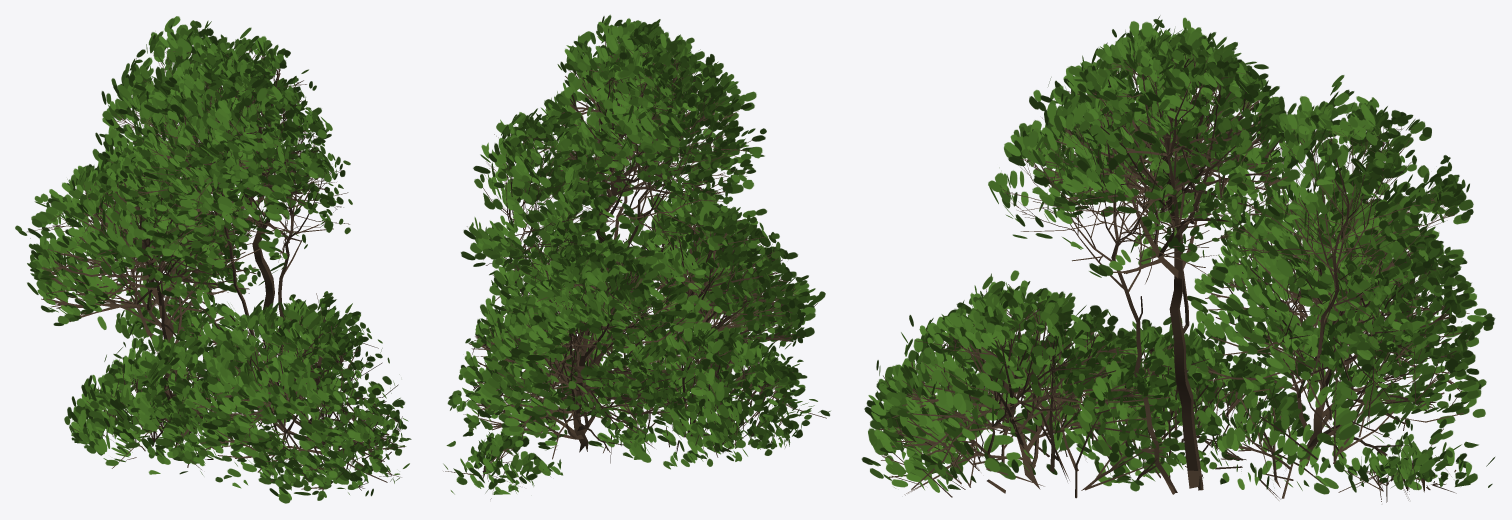
The picture shows the model from 3 angles, left to right: view 1: azimuth 30°, elevation 25°; view 2: azimuth 150°, elevation 25°; view 3: azimuth 270°, elevation 25°; orthographic projection. The views are drawn at different scales.
Parts seen in each view (by area): view 1: oak 01.001_trunk_Mat.001_0.499; view 2: oak 01.001_trunk_Mat.001_0.499; view 3: oak 01.001_trunk_Mat.001_0.499.
Boxes of the visible parts, x1,y1,x2,y2 form: oak 01.001_trunk_Mat.001_0.499: (15,16,411,503); oak 01.001_trunk_Mat.001_0.499: (443,14,830,499); oak 01.001_trunk_Mat.001_0.499: (861,15,1495,502).
Bounding box in the file's own units: 2.17 × 3.31 × 4.13.
2 materials, 1 textured.
